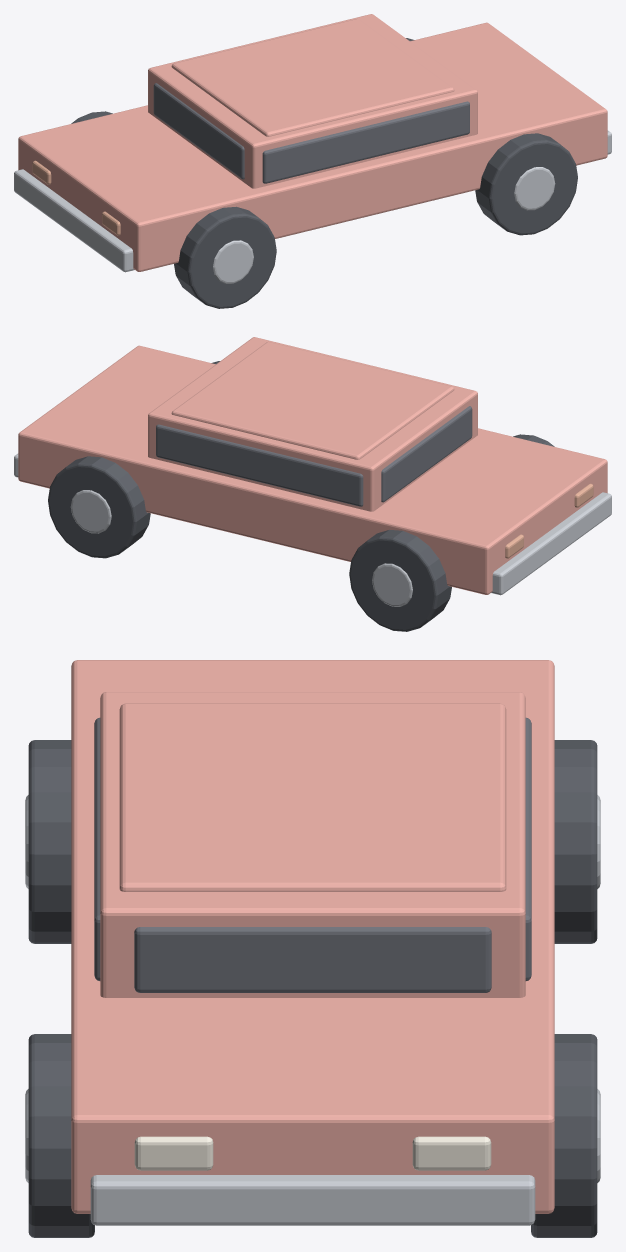
The model's file is Car.fbx.
3 renders of one model, top to bottom at view 1: azimuth 30°, elevation 25°; view 2: azimuth 150°, elevation 25°; view 3: azimuth 270°, elevation 25°, orthographic. The views are drawn at different scales.
Visible parts, largest first — view 1: Car; view 2: Car; view 3: Car.
Part boxes in pixels (x1=…): Car: x1=14, y1=14, x2=611, y2=308; Car: x1=14, y1=337, x2=611, y2=631; Car: x1=25, y1=660, x2=600, y2=1237.
Bounding box in the file's own units: 3.74 × 1.06 × 1.9.
